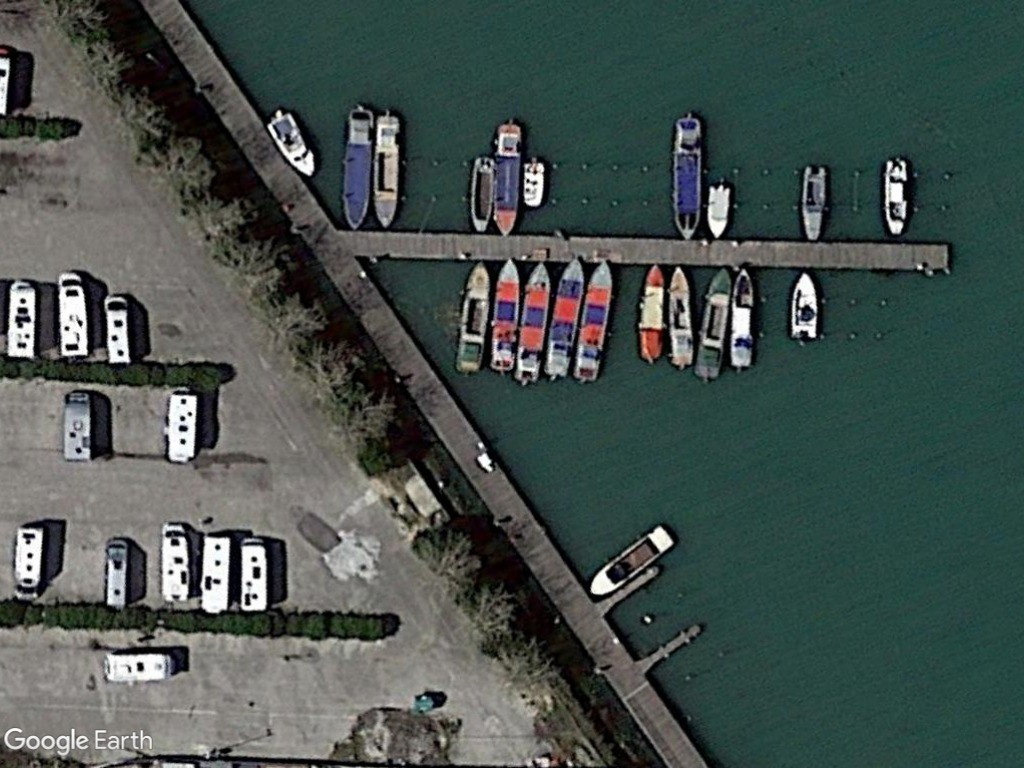boat: (587, 517, 680, 601), (335, 102, 378, 231), (571, 260, 615, 385), (543, 257, 585, 381), (513, 257, 551, 394), (693, 264, 735, 387), (667, 110, 704, 241), (485, 257, 525, 377), (259, 102, 321, 179), (456, 259, 492, 378), (491, 117, 526, 237), (371, 106, 402, 232), (664, 263, 697, 371), (635, 261, 667, 368), (727, 265, 754, 374), (881, 152, 913, 239), (795, 160, 828, 243), (785, 269, 820, 344), (467, 152, 495, 235), (704, 180, 732, 240), (521, 156, 548, 212)
bus: (51, 269, 95, 364), (155, 516, 195, 609), (7, 520, 48, 605), (3, 274, 41, 365), (235, 531, 271, 620), (163, 387, 202, 467), (198, 528, 232, 617), (59, 386, 97, 465), (101, 649, 180, 687), (100, 533, 134, 614), (100, 292, 134, 370)
